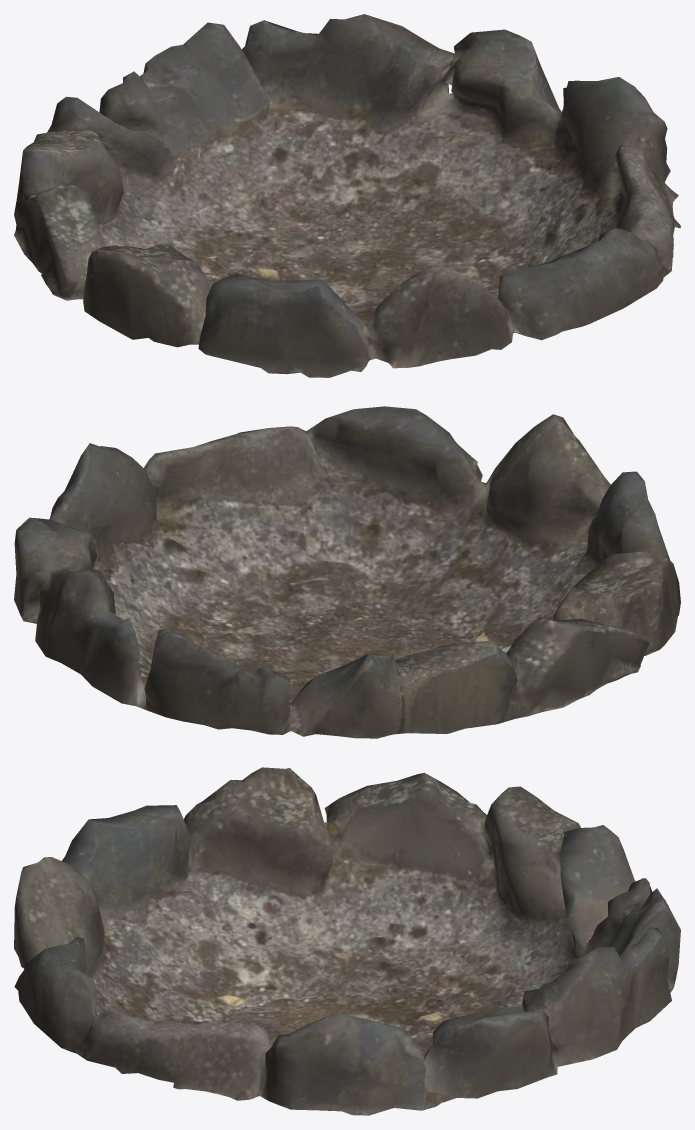
The model's file is stone_fire_pit.glb.
The picture shows the model from 3 angles, top to bottom: view 1: azimuth 30°, elevation 25°; view 2: azimuth 150°, elevation 25°; view 3: azimuth 270°, elevation 25°; orthographic projection.
Visible parts, largest first — view 1: stone_fire_pit; view 2: stone_fire_pit; view 3: stone_fire_pit.
Boxes of the visible parts, x1=… form: stone_fire_pit: x1=14, y1=14, x2=680, y2=377; stone_fire_pit: x1=14, y1=406, x2=680, y2=738; stone_fire_pit: x1=14, y1=767, x2=680, y2=1115.
Size of the model in its own units: 1.45 by 0.3883 by 1.43.
Materials: 1 (1 with a texture image).
